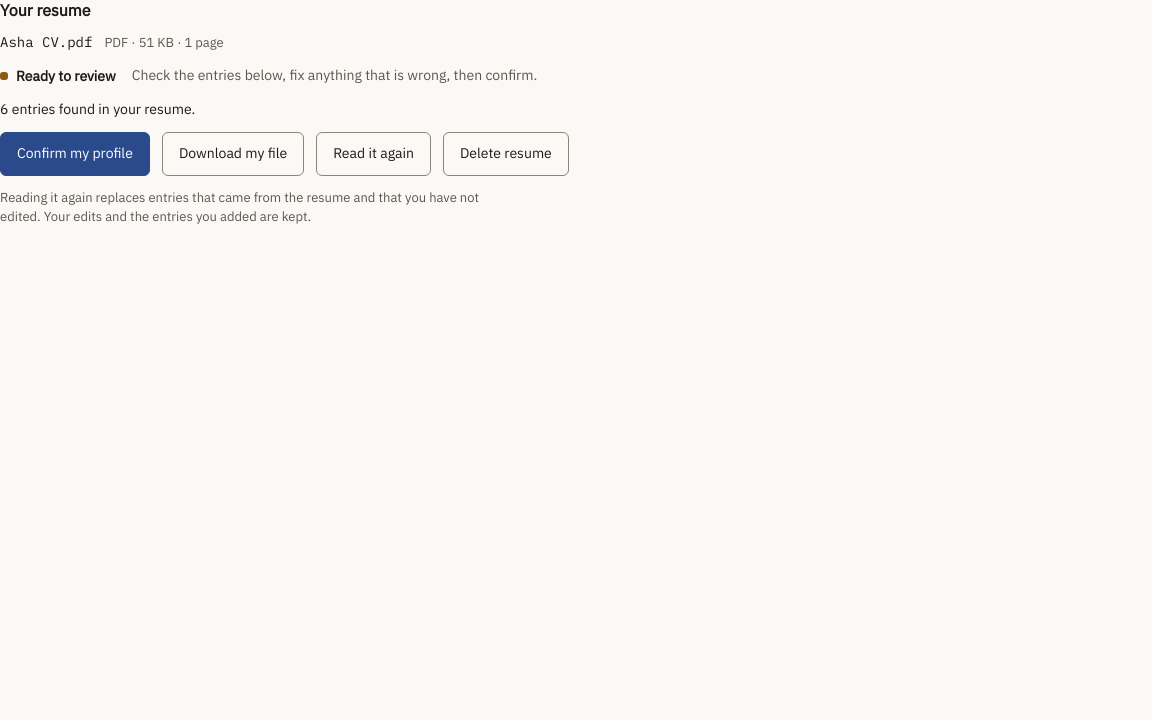
it: ResumeSection › asks before deleting and says what is kept
Click the button "Delete resume": {"x": 506, "y": 154} [443,132,569,176]
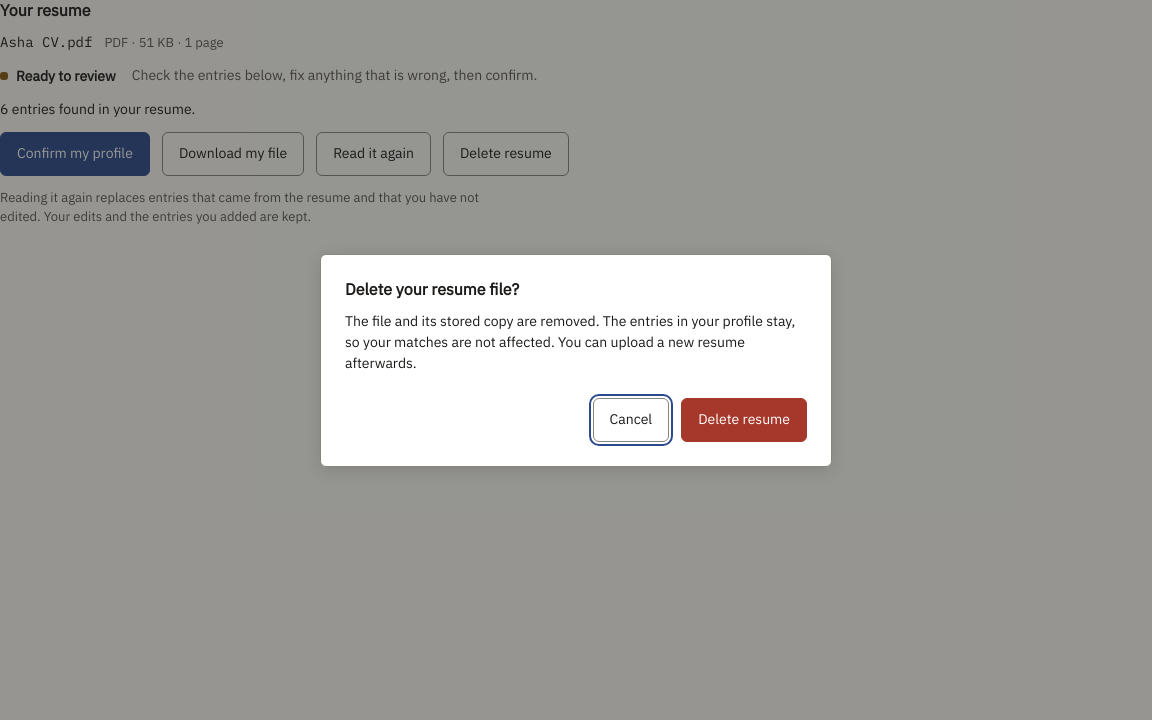
Expected: the text "entries in your profile stay" is shown, [345,312,795,372]
